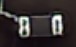COMP: (12, 9, 69, 41)
STAN: (1, 1, 18, 25), (1, 10, 17, 23), (1, 1, 7, 18)
